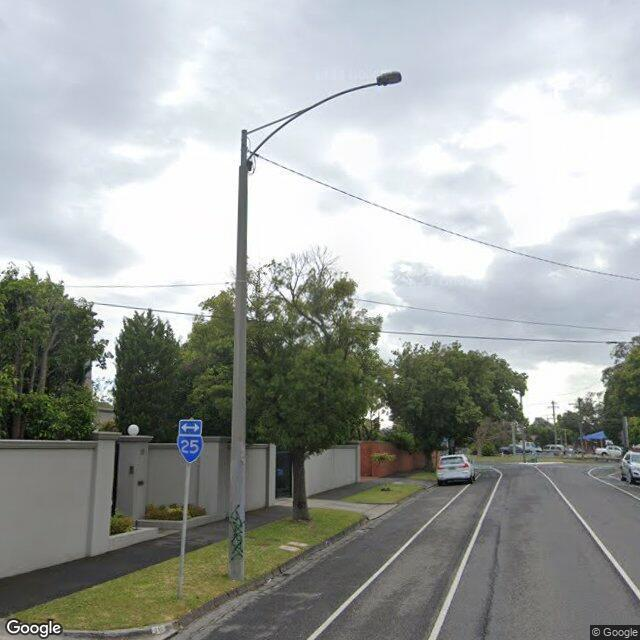crossarm: (547, 406, 560, 407), (547, 418, 558, 419)
streetlight: (241, 71, 402, 167)
timber-pole: (227, 165, 248, 581), (552, 401, 555, 425)
